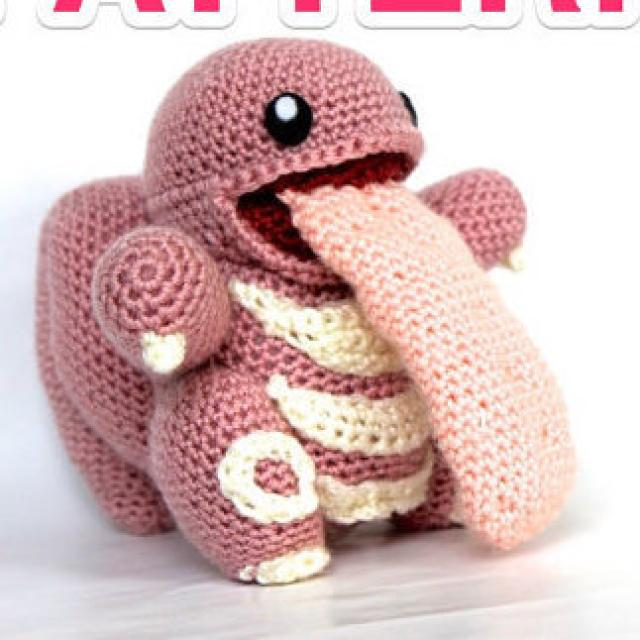Lickitung: (31, 24, 592, 592)
